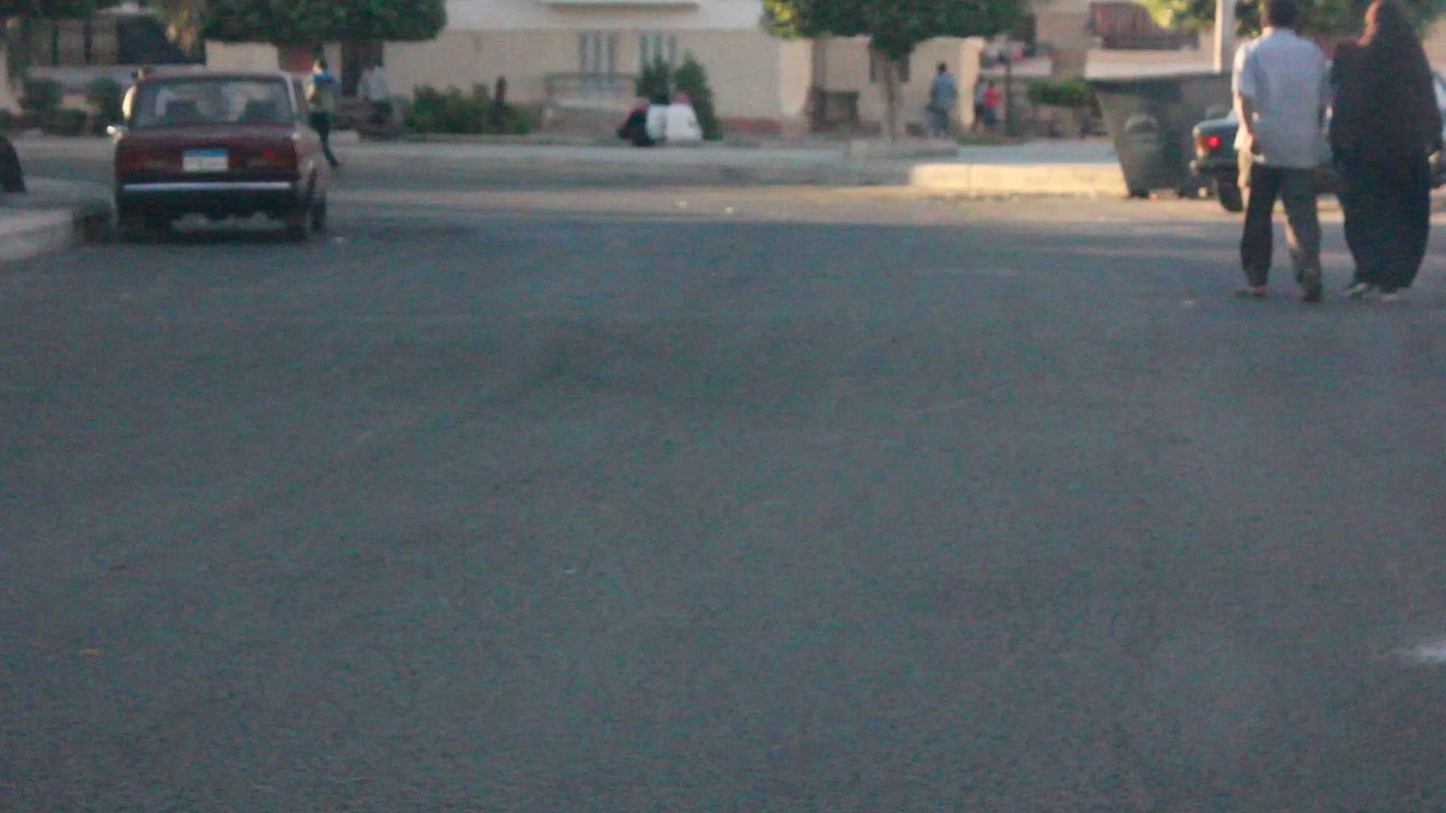Bump: (6, 307, 1446, 393)
